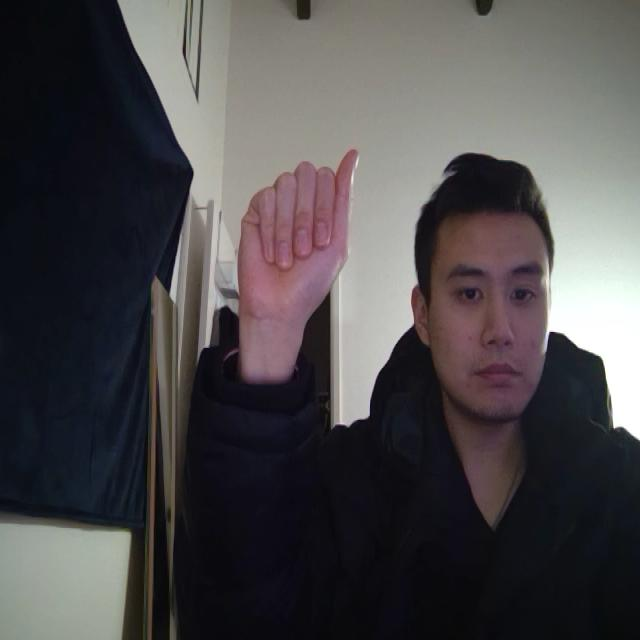A: (223, 119, 371, 402)
